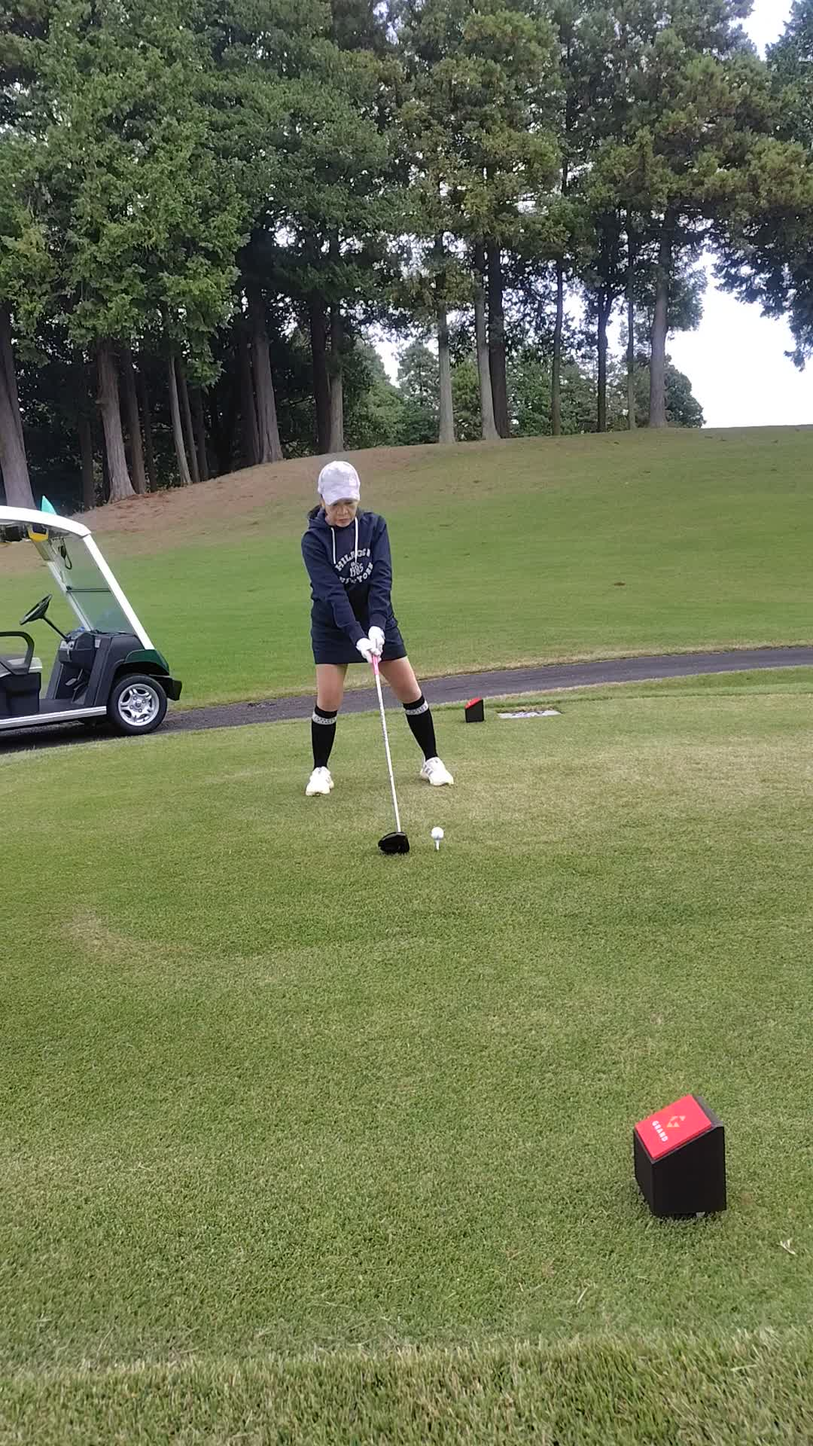clubhead: (318, 784, 541, 951)
